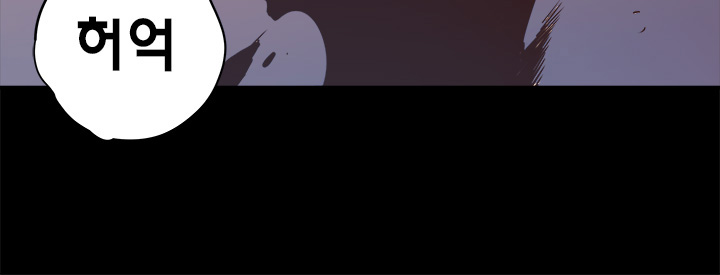dialog box: (14, 1, 251, 158)
text: (56, 1, 193, 92)
